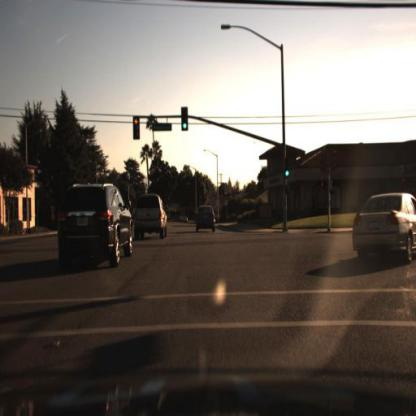car: (44, 176, 136, 285), (352, 191, 416, 268), (126, 189, 173, 247), (191, 202, 225, 238)
trafficLight-Green: (180, 107, 189, 131), (283, 166, 291, 185)
trafficLight-RedLeft: (133, 115, 143, 135)
